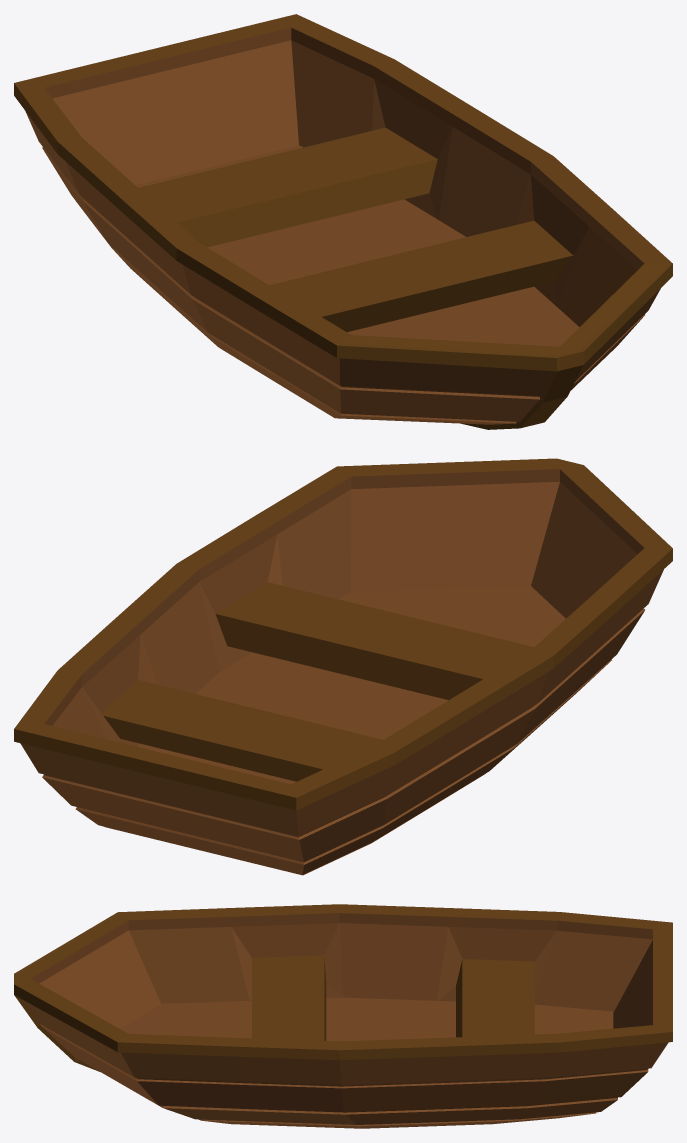
Rendered from lowpoly_boat.fbx.
The picture shows the model from 3 angles, top to bottom: view 1: azimuth 30°, elevation 25°; view 2: azimuth 150°, elevation 25°; view 3: azimuth 270°, elevation 25°; orthographic projection. The views are drawn at different scales.
Parts seen in each view (by area): view 1: Boat; view 2: Boat; view 3: Boat.
Boxes of the visible parts, x1,y1,x2,y2 form: Boat: (14, 14, 672, 429); Boat: (14, 458, 672, 875); Boat: (14, 904, 672, 1128).
Bounding box in the file's own units: 3.59 × 1.28 × 6.85.
